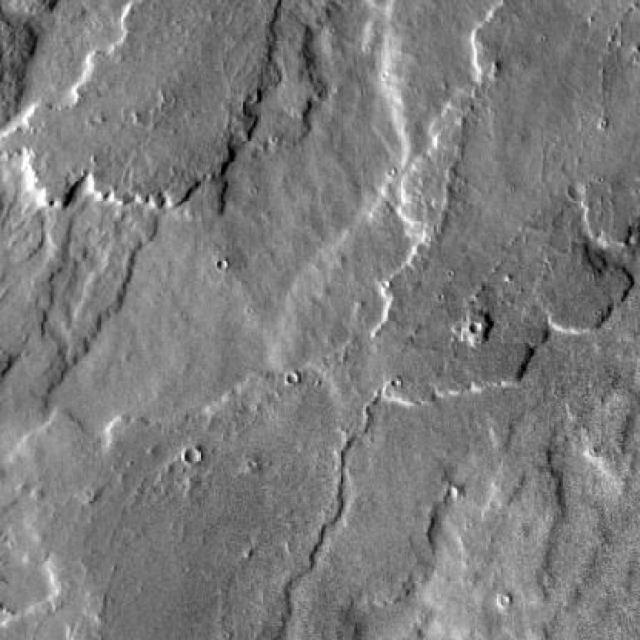crater: (197, 458, 212, 474)
